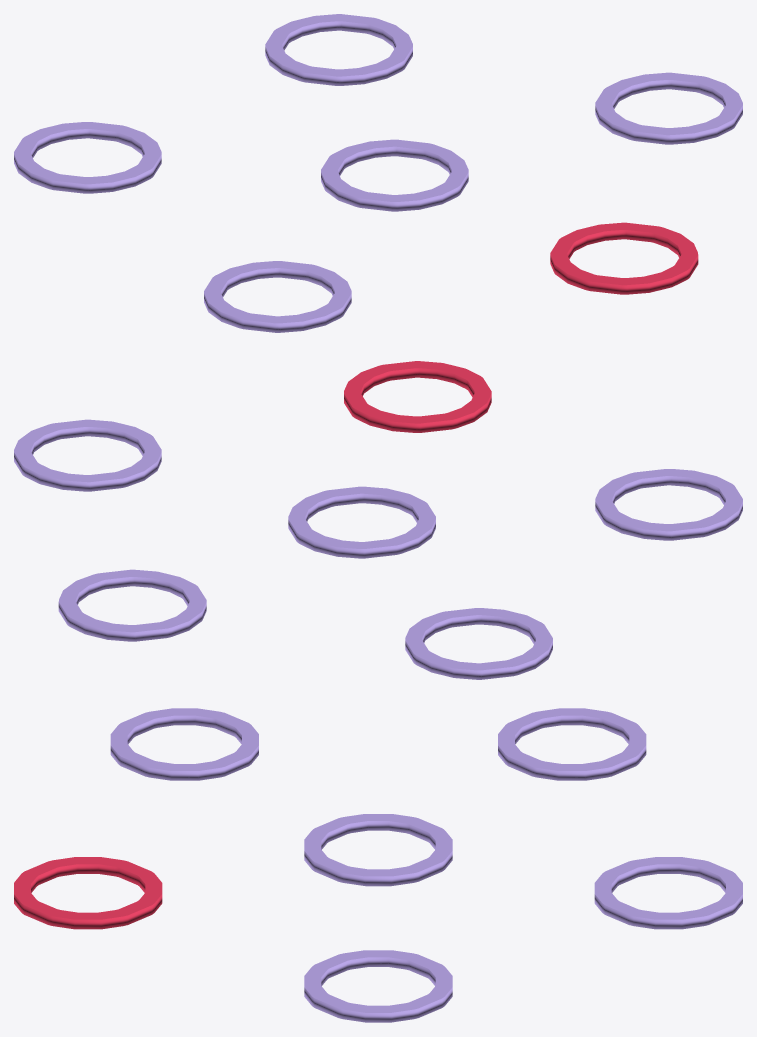
File: Travel_Battlepoints.fbx
The picture shows the model from 3 angles, top to bottom: view 1: azimuth 30°, elevation 25°; view 2: azimuth 150°, elevation 25°; view 3: azimuth 270°, elevation 25°; orthographic projection.
Parts seen in each view (by area): view 1: Battlepoint, Travelpoint_extra_3, Travelpoint_extra_2, Travelpoint_extra, Travelpoint, Travelpoint_extra_4; view 2: Travelpoint_extra, Travelpoint_extra_3, Travelpoint_extra_4, Battlepoint, Travelpoint, Travelpoint_extra_2; view 3: Travelpoint, Travelpoint_extra_2, Travelpoint_extra_4, Travelpoint_extra, Battlepoint, Travelpoint_extra_3.
Boxes of the visible parts, bbox=[...] form: Battlepoint: bbox=[550, 222, 698, 294]; Travelpoint_extra_3: bbox=[321, 139, 468, 211]; Travelpoint_extra_2: bbox=[204, 261, 351, 332]; Travelpoint_extra: bbox=[265, 14, 412, 85]; Travelpoint: bbox=[595, 72, 742, 144]; Travelpoint_extra_4: bbox=[14, 122, 161, 193]; Travelpoint_extra: bbox=[58, 569, 206, 641]; Travelpoint_extra_3: bbox=[288, 486, 435, 558]; Travelpoint_extra_4: bbox=[405, 608, 552, 679]; Battlepoint: bbox=[344, 361, 491, 432]; Travelpoint: bbox=[14, 419, 161, 491]; Travelpoint_extra_2: bbox=[595, 469, 742, 540]; Travelpoint: bbox=[304, 950, 452, 1022]; Travelpoint_extra_2: bbox=[110, 708, 258, 780]; Travelpoint_extra_4: bbox=[498, 708, 646, 780]; Travelpoint_extra: bbox=[594, 857, 742, 929]; Battlepoint: bbox=[14, 857, 162, 929]; Travelpoint_extra_3: bbox=[304, 814, 452, 886].
Bounding box in the file's own units: 223 × 3.31 × 226.
